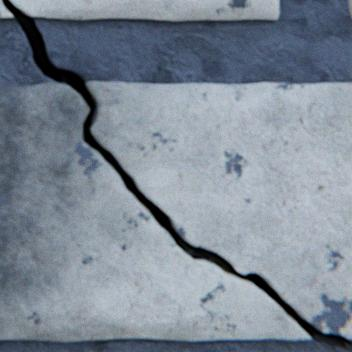brick: (347, 0, 351, 18)
broken_brick: (0, 82, 308, 340), (86, 81, 351, 337), (11, 0, 277, 20), (0, 0, 13, 17)
crack: (1, 0, 351, 351)
